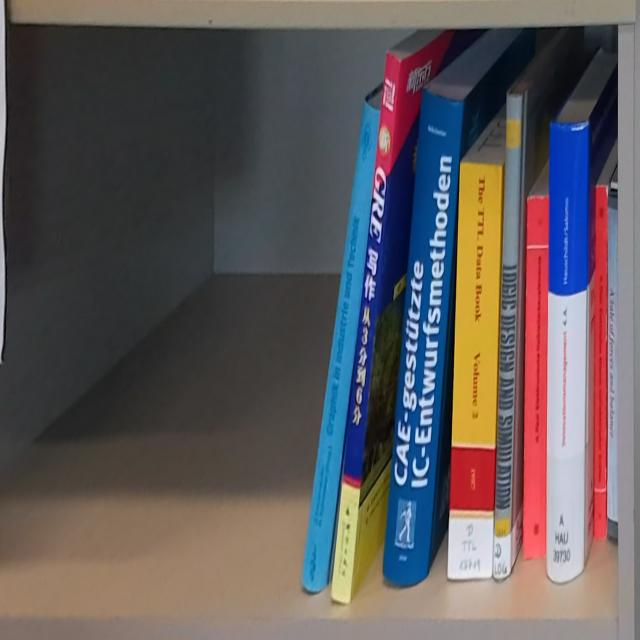Book Spine: (382, 87, 462, 587), (301, 98, 381, 590), (328, 52, 399, 603), (451, 162, 503, 580), (546, 119, 588, 588), (493, 93, 525, 586), (523, 197, 550, 561), (593, 184, 608, 546), (607, 190, 618, 543)
